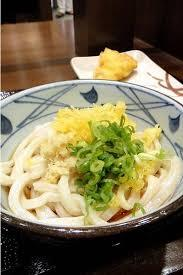bukkake: (3, 85, 182, 230)
